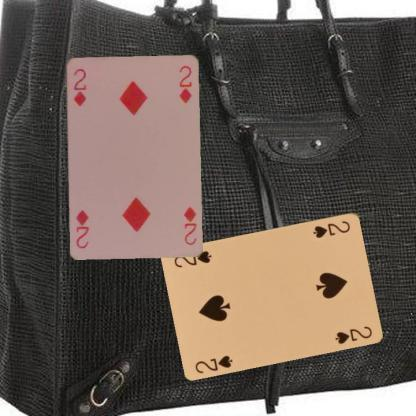2d: (180, 204, 198, 246), (70, 66, 88, 107)
2s: (310, 218, 352, 240), (192, 352, 234, 374)
